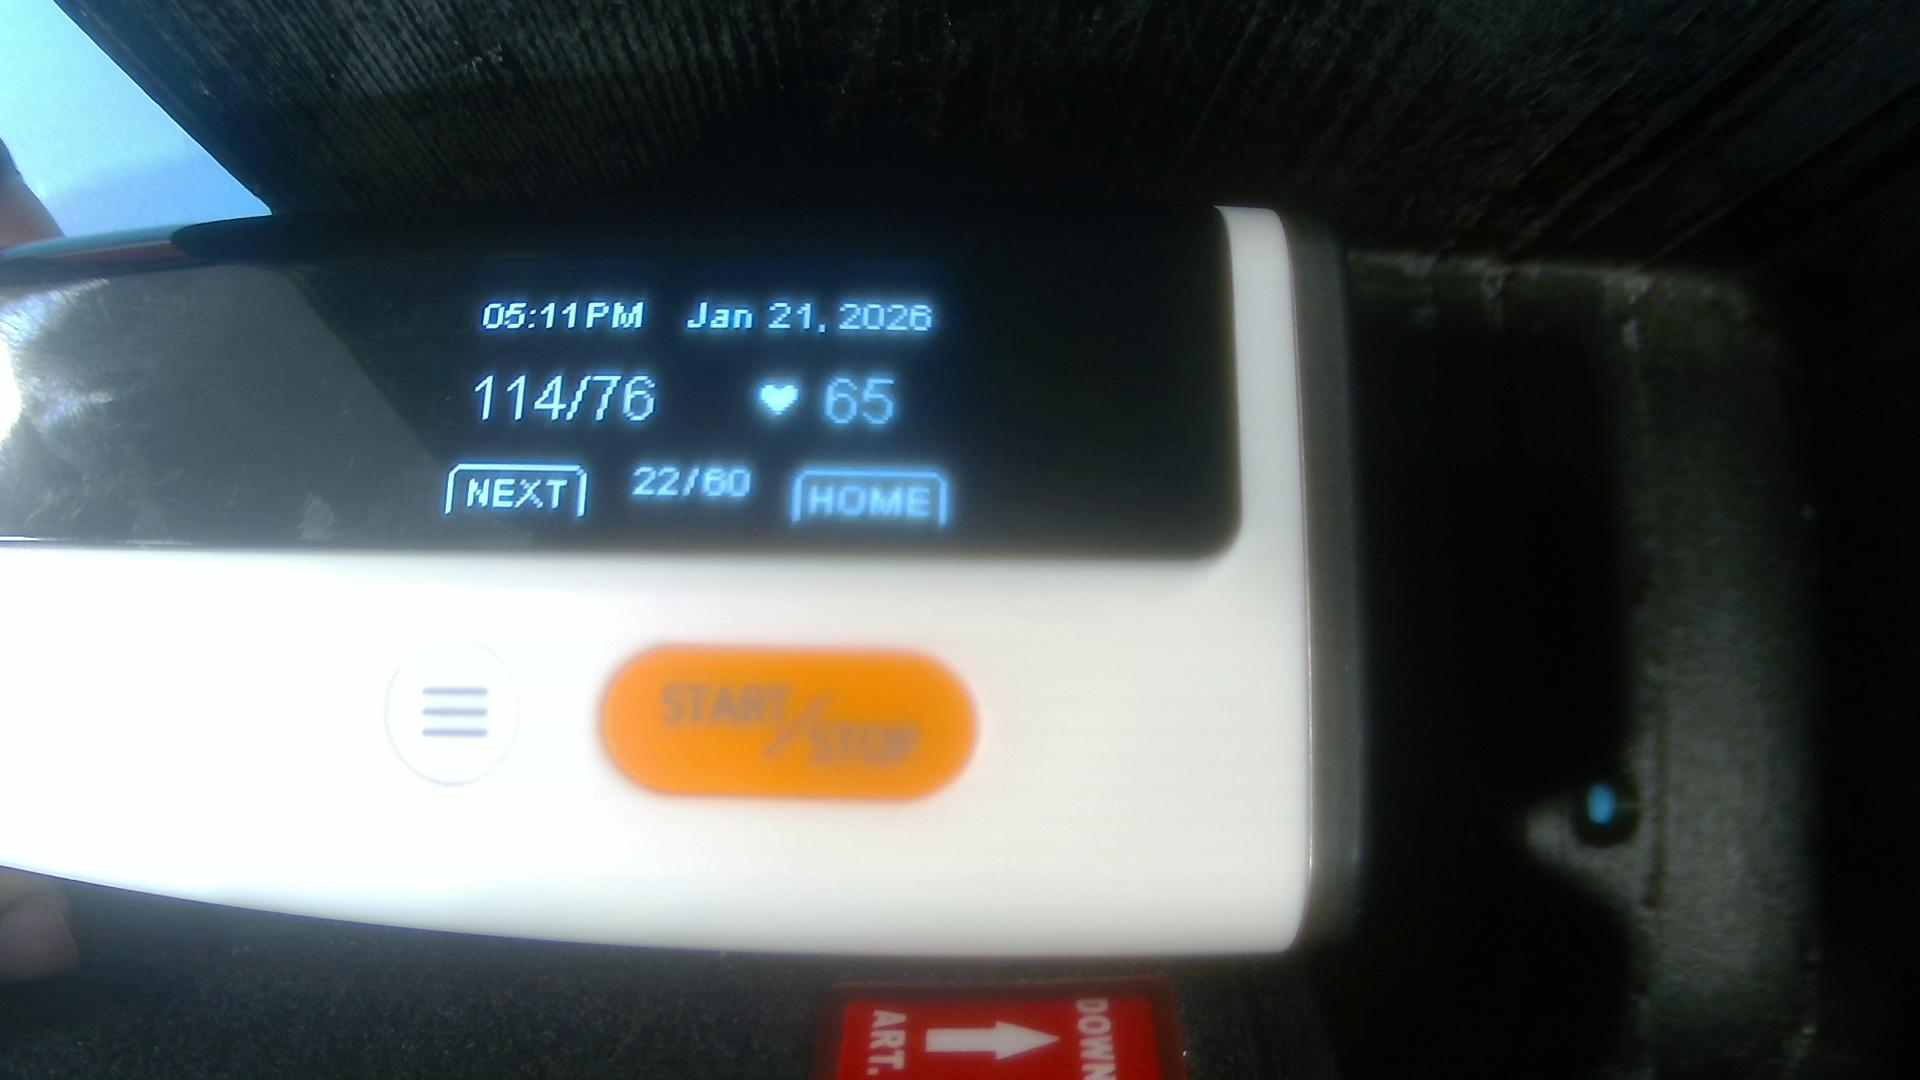DISPLAY: (13, 201, 1220, 543)
